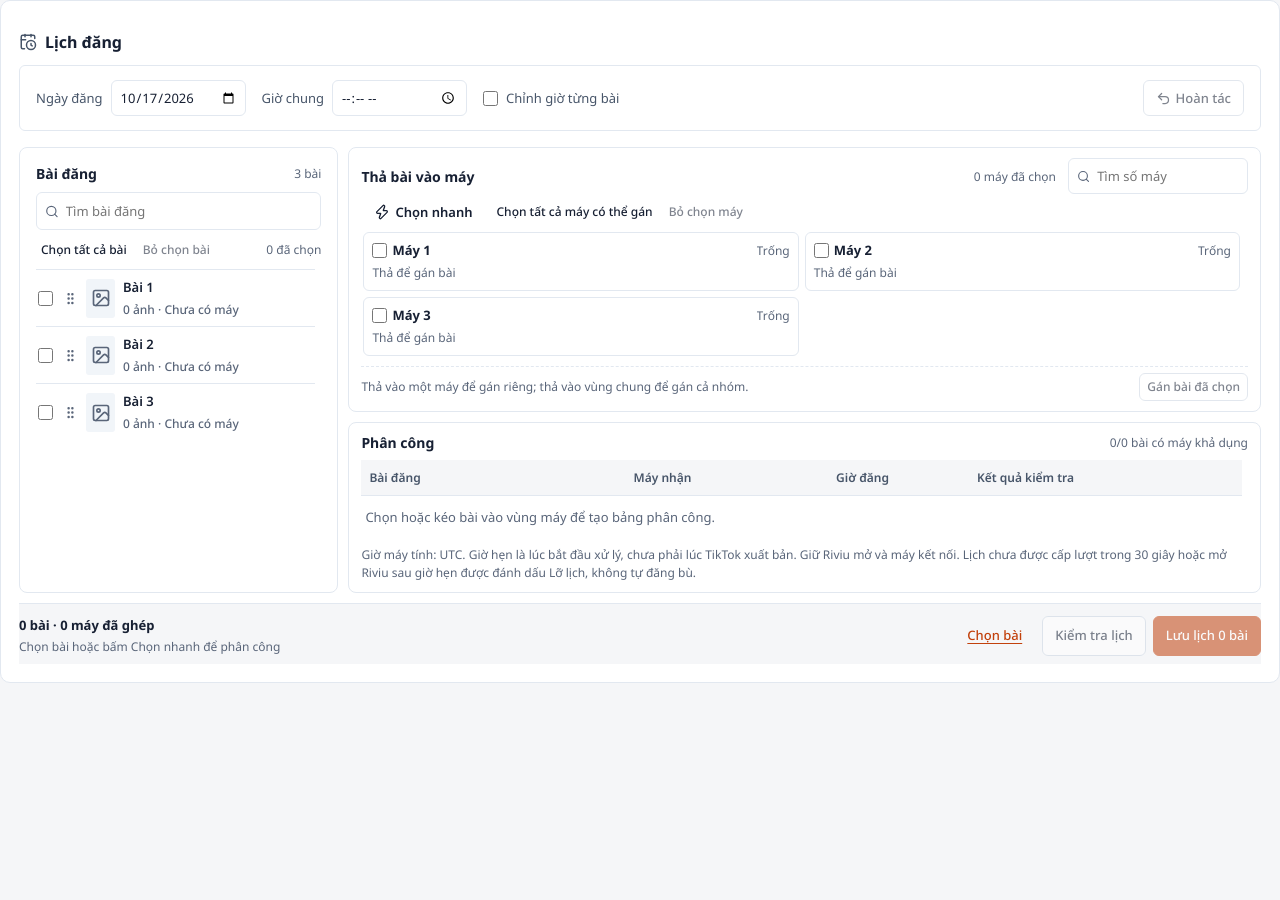
schedule assignment workspace › keeps the assignment command visible as the next step and distinguishes mapped from available machines
The image size is (1280, 900).
What coordinates should you click on to do the following:
click the button "Chọn tất cả bài"
I would click on:
 (84, 250)
Its box is [36,236,132,262].
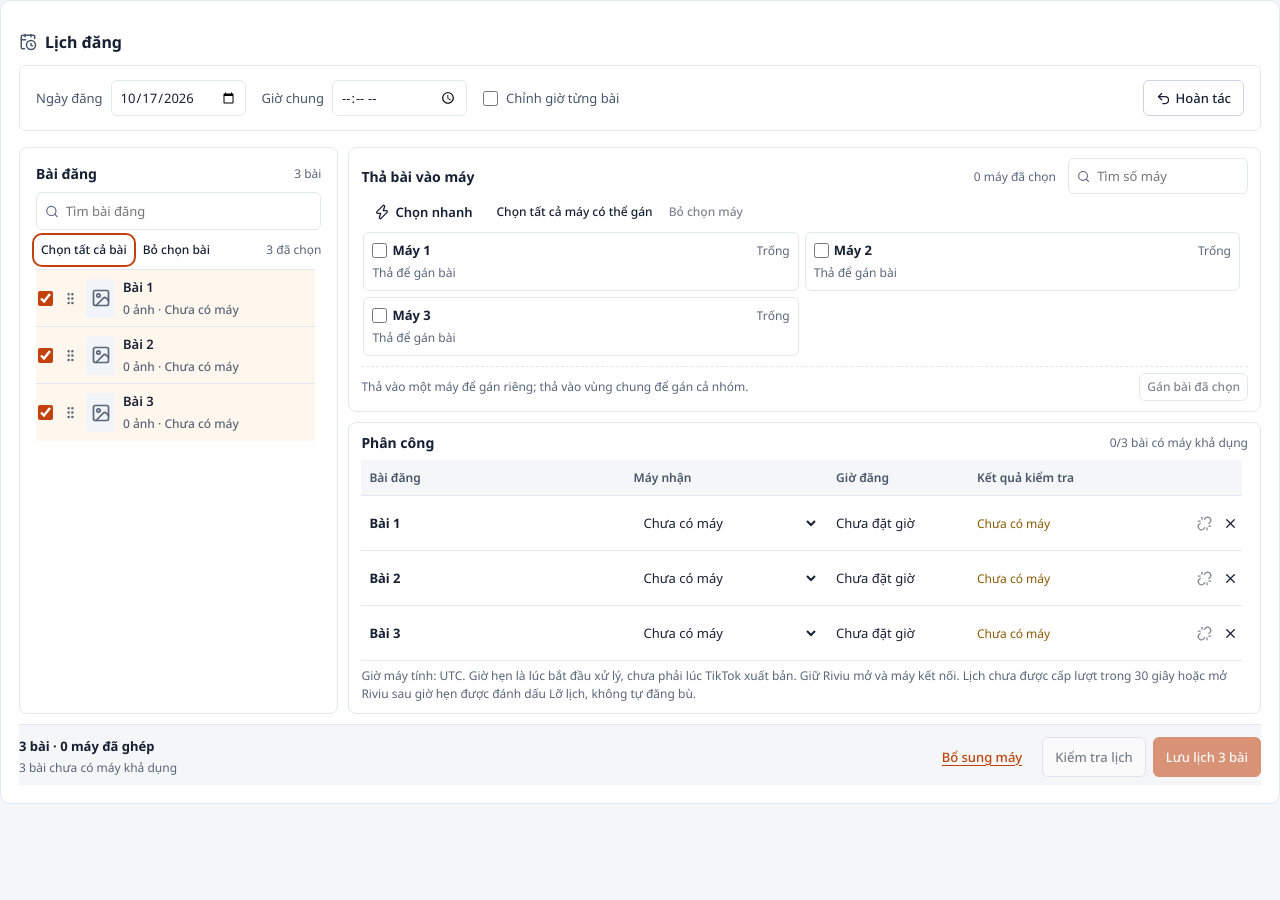
What coordinates should you click on to do the following:
click the button "Chọn tất cả máy có thể gán"
I would click on:
 (575, 212)
Its box is [492,199,658,225].
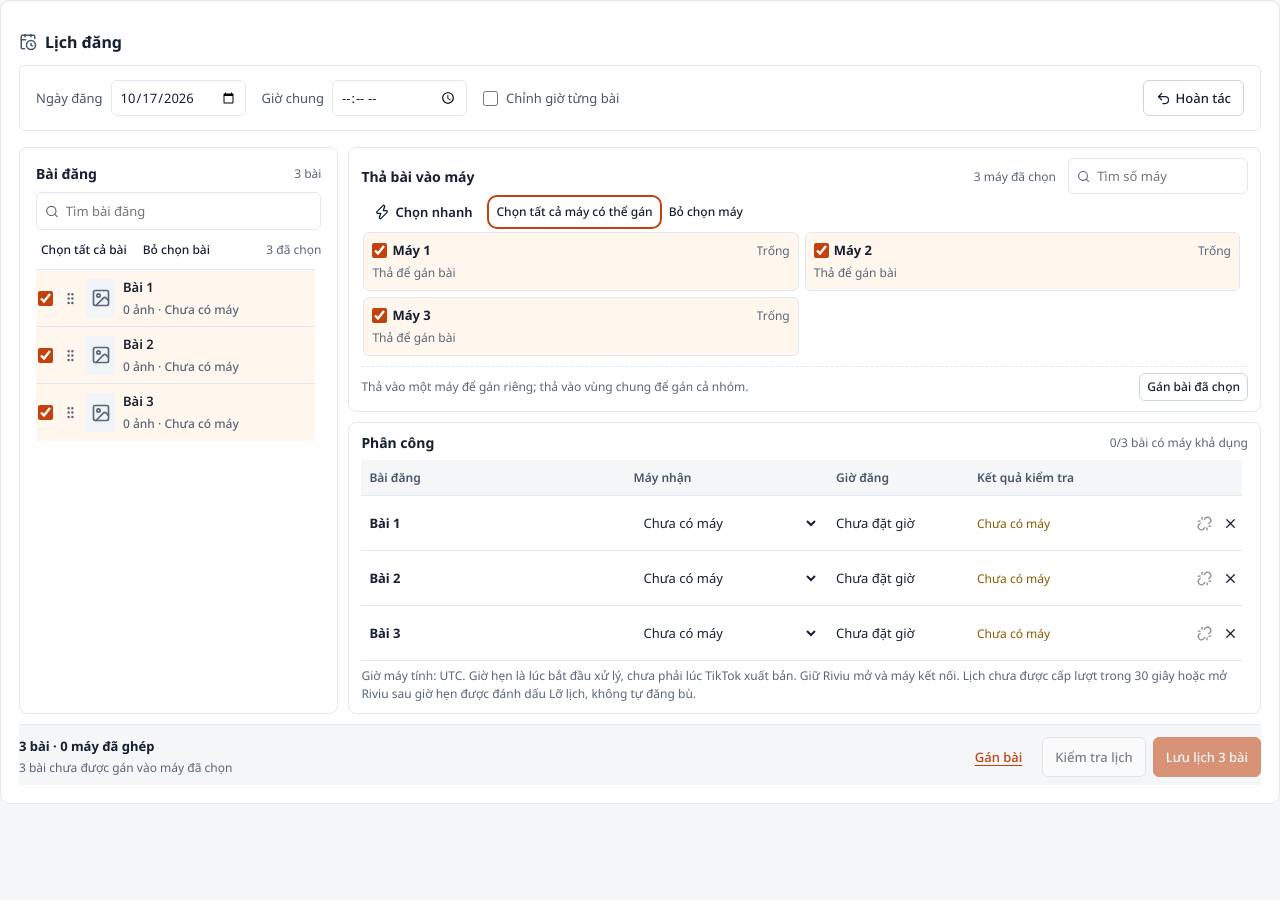
Result: the button "Gán bài" is shown
What coordinates should you click on to do the following:
click the button "Gán bài"
I would click on:
 (998, 757)
Its box is [962,737,1035,777].
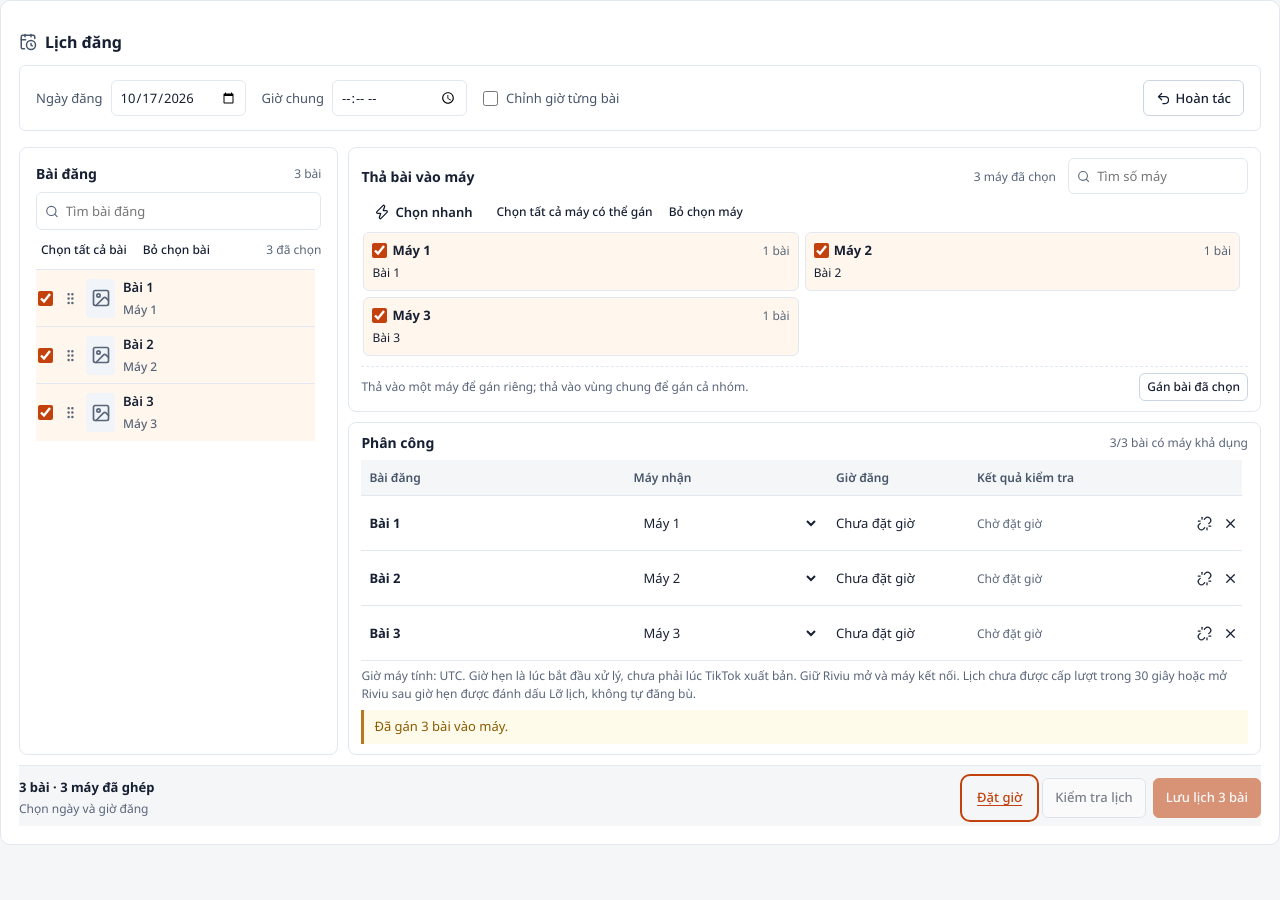
Result: the text "3/3 bài có máy khả dụng" is shown at [1110,434,1248,451]
Result: the text "3 bài · 3 máy đã ghép" is shown at [19,778,154,796]
